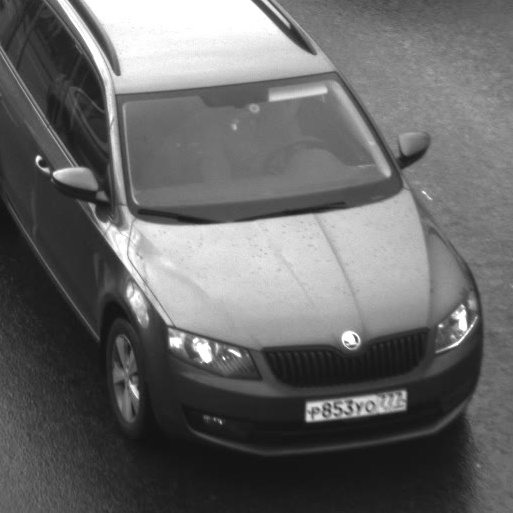plate: (294, 379, 415, 430)
